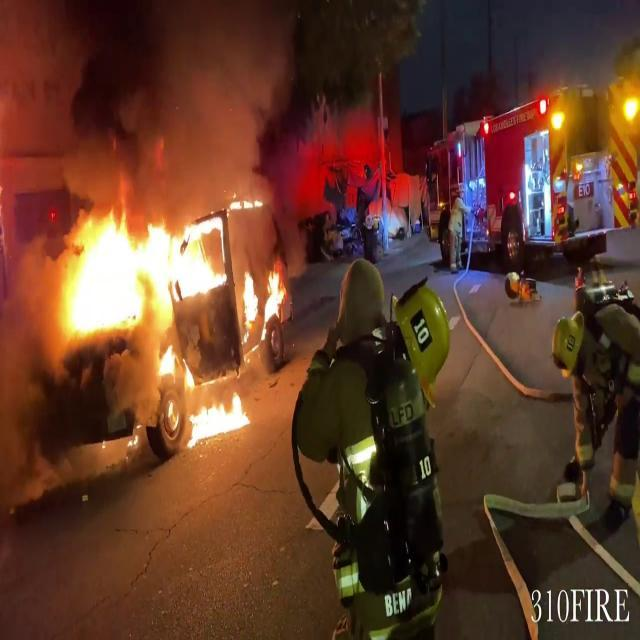Fire: (53, 200, 289, 384), (183, 386, 254, 448)
Smoke: (1, 0, 309, 188)
